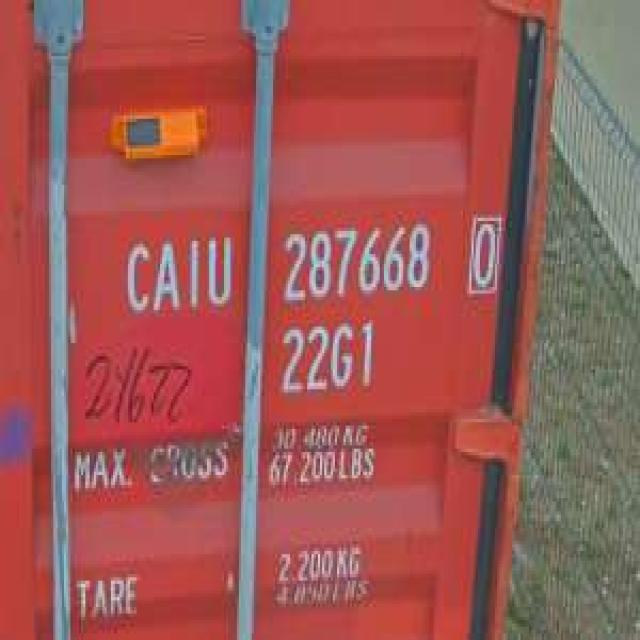dv: (461, 205, 503, 300)
owner: (119, 221, 237, 323)
serial: (278, 214, 438, 307)
size: (275, 314, 380, 402)
